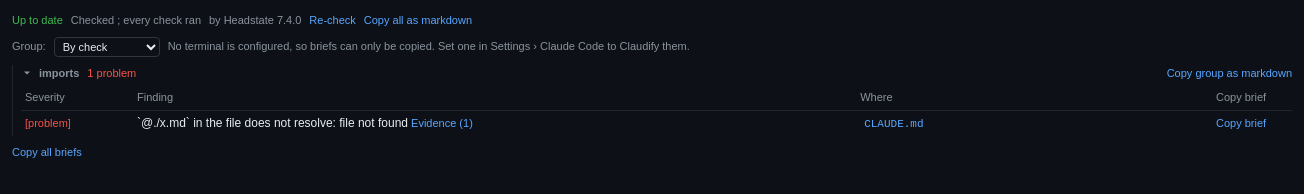
Test: ClaudeMdAdvicePanel › shows a finding's evidence only when asked
This screenshot has width=1304, height=194.
Check: the text "`@./x.md`: file not found" is not shown
Click the button "Evidence (1)" at {"x": 442, "y": 123}, box [411, 114, 473, 131]
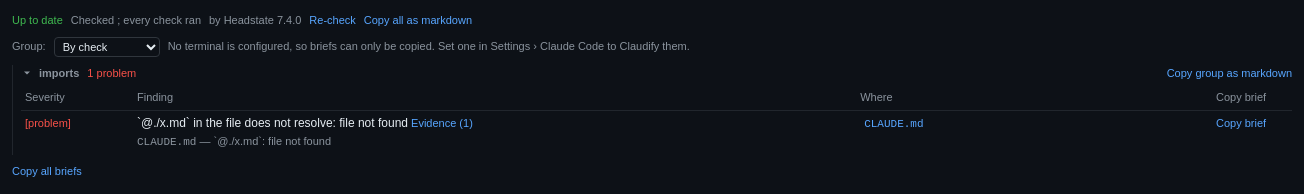
Check: the list item "CLAUDE.md — `@./x.md`: file not found" is shown, box [137, 135, 331, 148]
